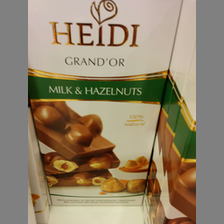chocolate: (28, 1, 182, 205)
